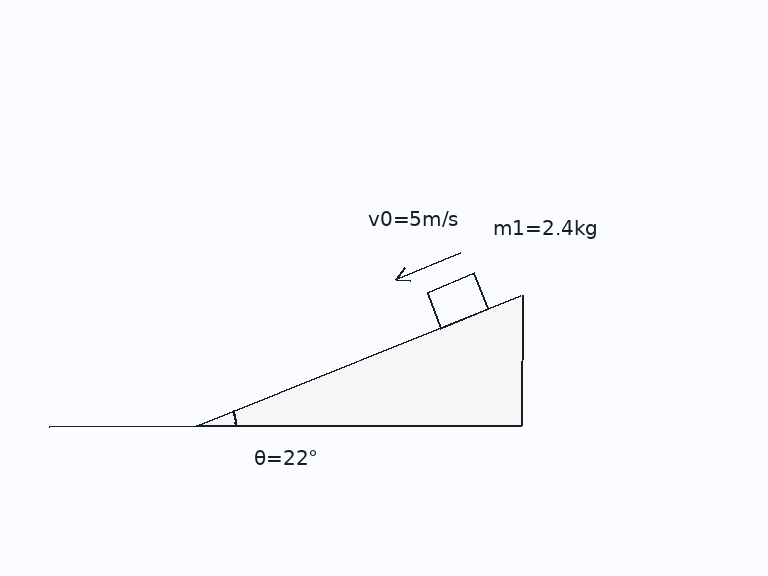block: (424, 271, 490, 329)
ramp: (194, 293, 523, 428)
